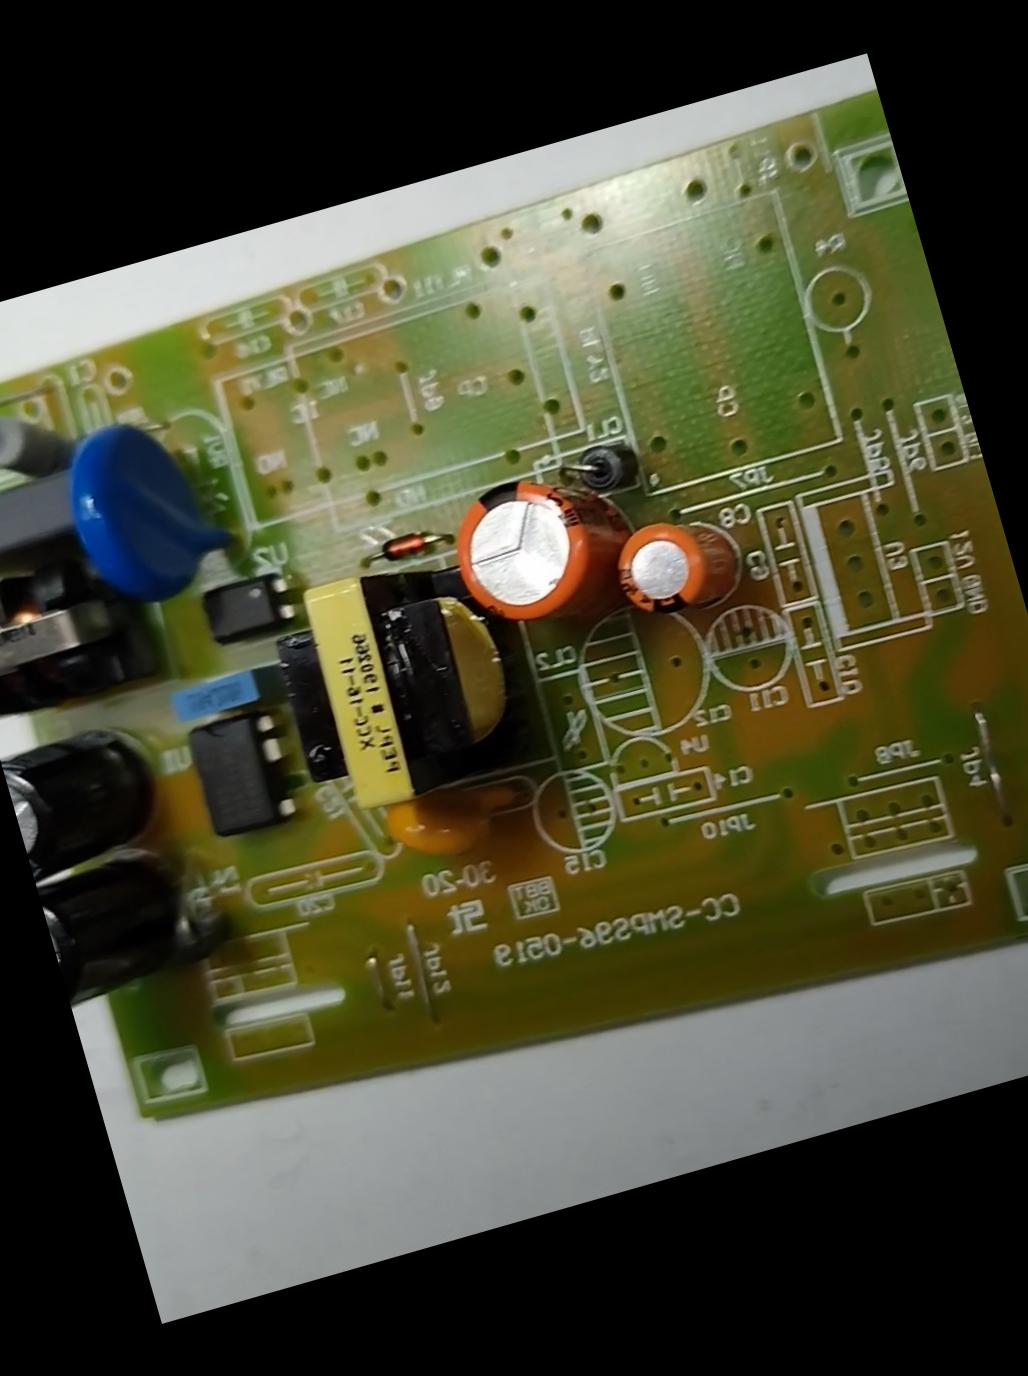Cap1: (436, 446, 646, 638)
Cap2: (600, 505, 720, 622)
Cap3: (0, 710, 177, 885)
Cap4: (35, 846, 201, 1013)
MOSFET: (178, 705, 303, 841)
Mov: (48, 395, 257, 621)
Resistor: (0, 397, 75, 493)
Transformer: (259, 538, 546, 825), (0, 542, 158, 728)
